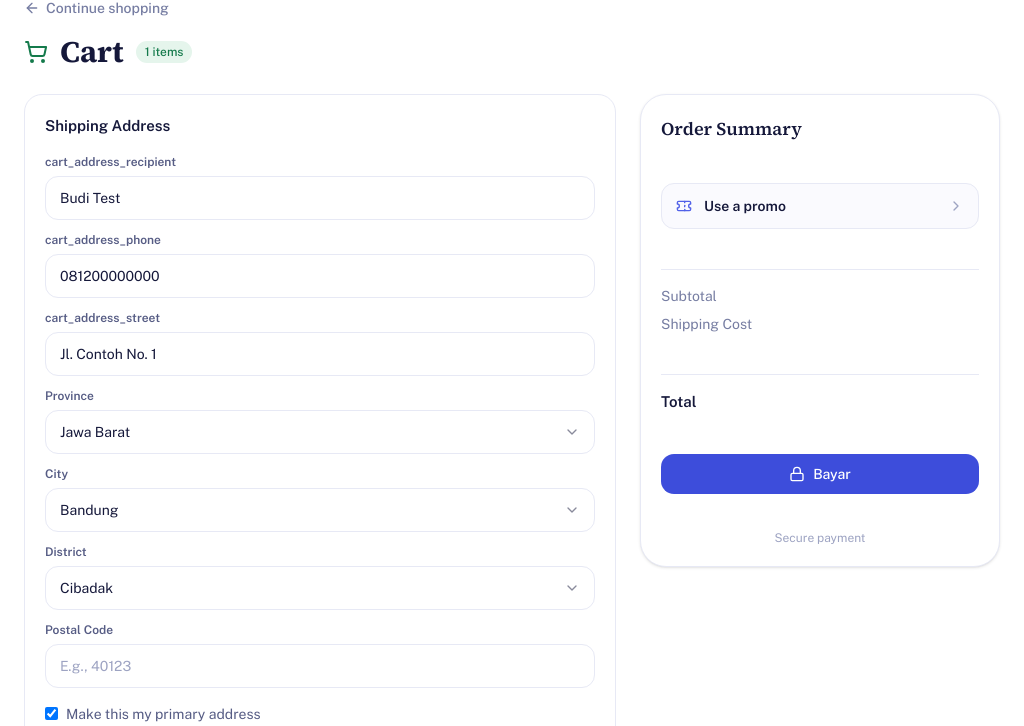
it: CartPage with Shipping › reopens the address form from the summary without crashing
Type "15310" into the field labelled "Postal Code" at (320, 666), box [45, 644, 595, 688]
(page scrolled)
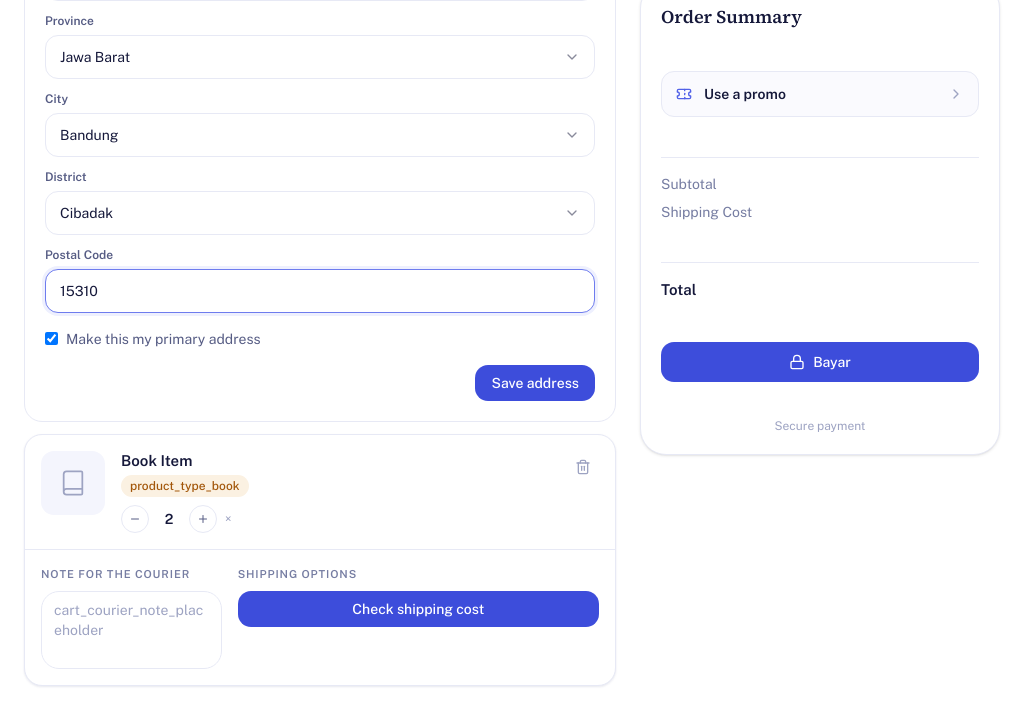
Click the button "Save address" at (535, 382), box [476, 364, 595, 400]
(page scrolled)
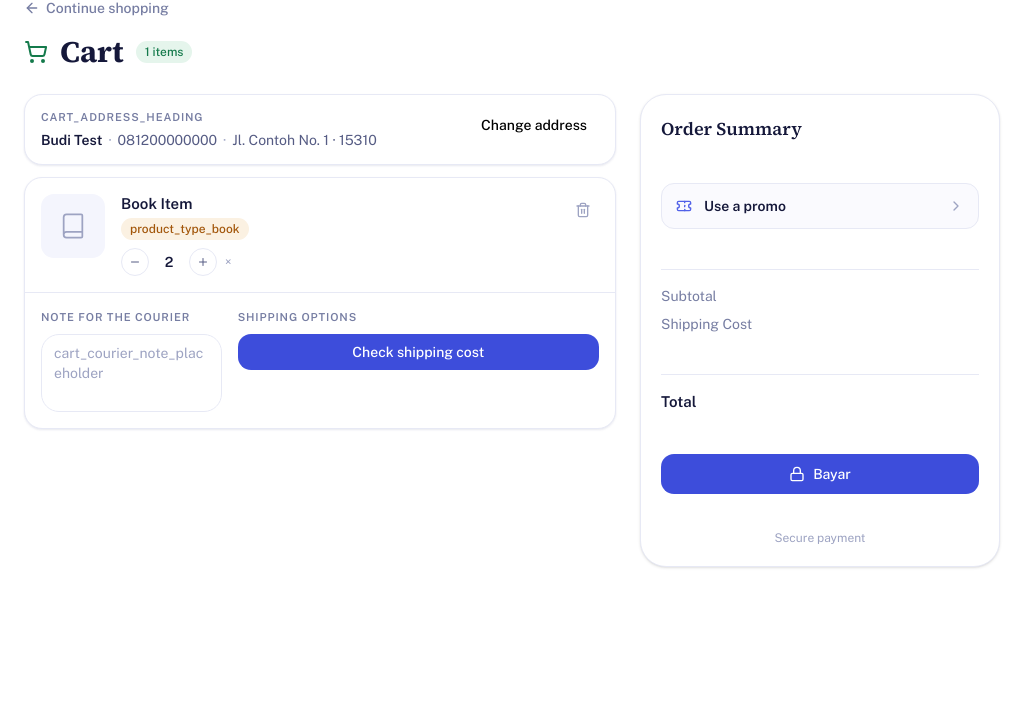
Click the button "Change address" at (534, 125), box [469, 109, 599, 141]
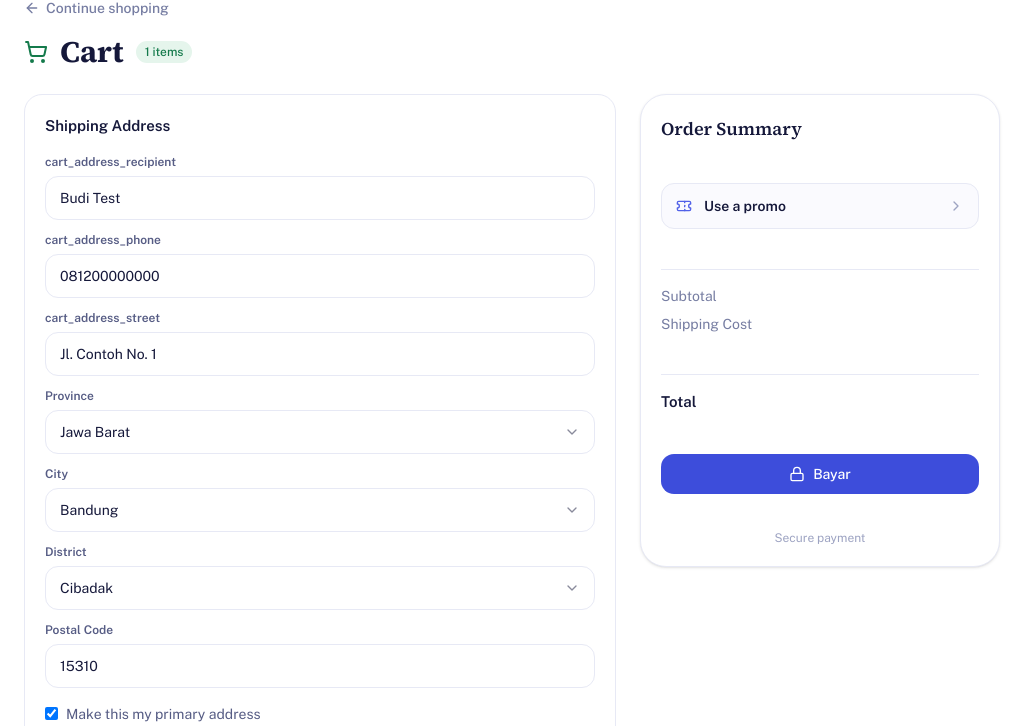
Expected: the heading "Shipping Address" is shown, [45, 117, 170, 134]
Expected: the field labelled "Postal Code" holds "15310", [45, 644, 595, 688]
